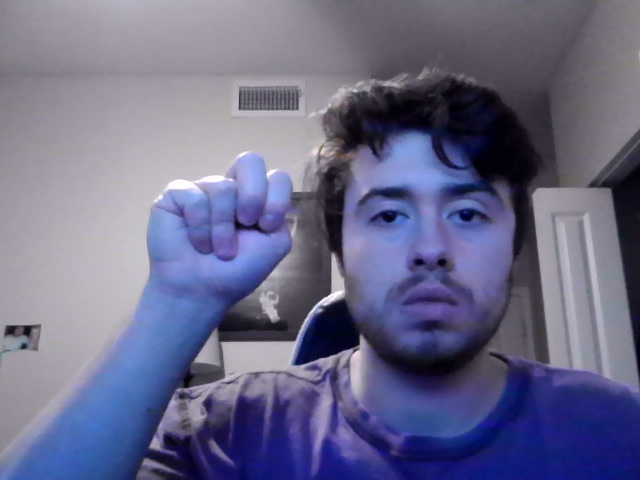n: (146, 149, 295, 323)
